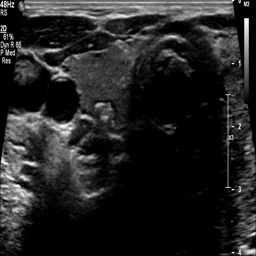mass: (92, 102, 116, 121)
